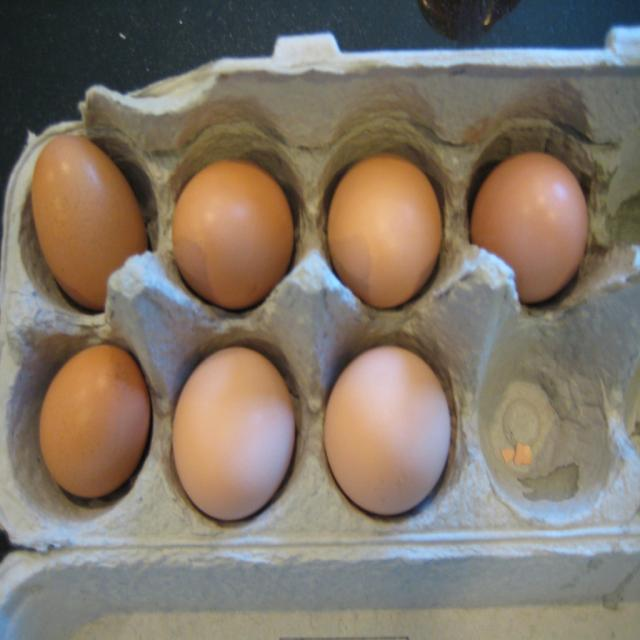Egg: (29, 135, 590, 522), (162, 339, 297, 521), (322, 338, 454, 516), (159, 155, 299, 316), (323, 149, 450, 308)
